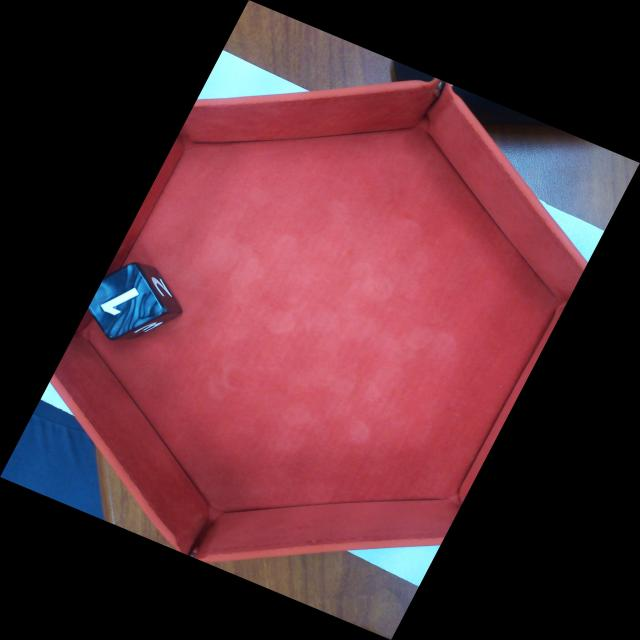dice: (75, 260, 169, 343)
